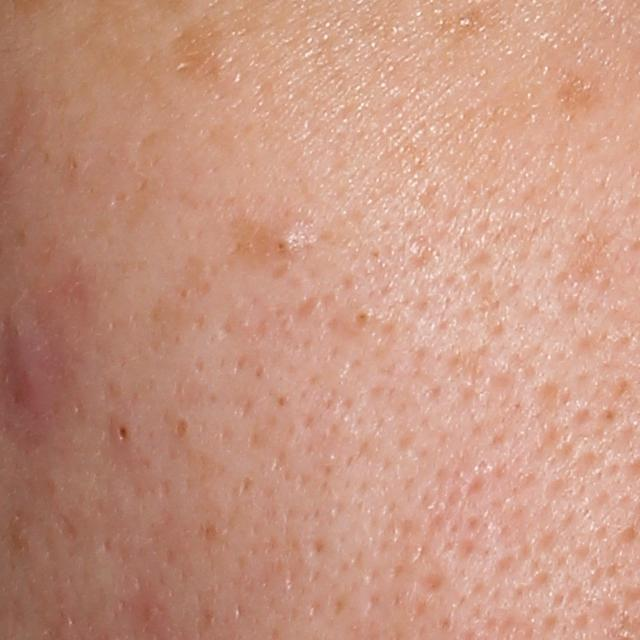atrophic_scar: (49, 511, 78, 549)
comedo: (274, 230, 303, 258), (350, 305, 377, 330), (173, 413, 191, 444), (113, 422, 134, 447)
melasma: (162, 14, 233, 93), (228, 217, 300, 280), (428, 1, 506, 45), (546, 73, 607, 117)
papule: (4, 355, 52, 415)
